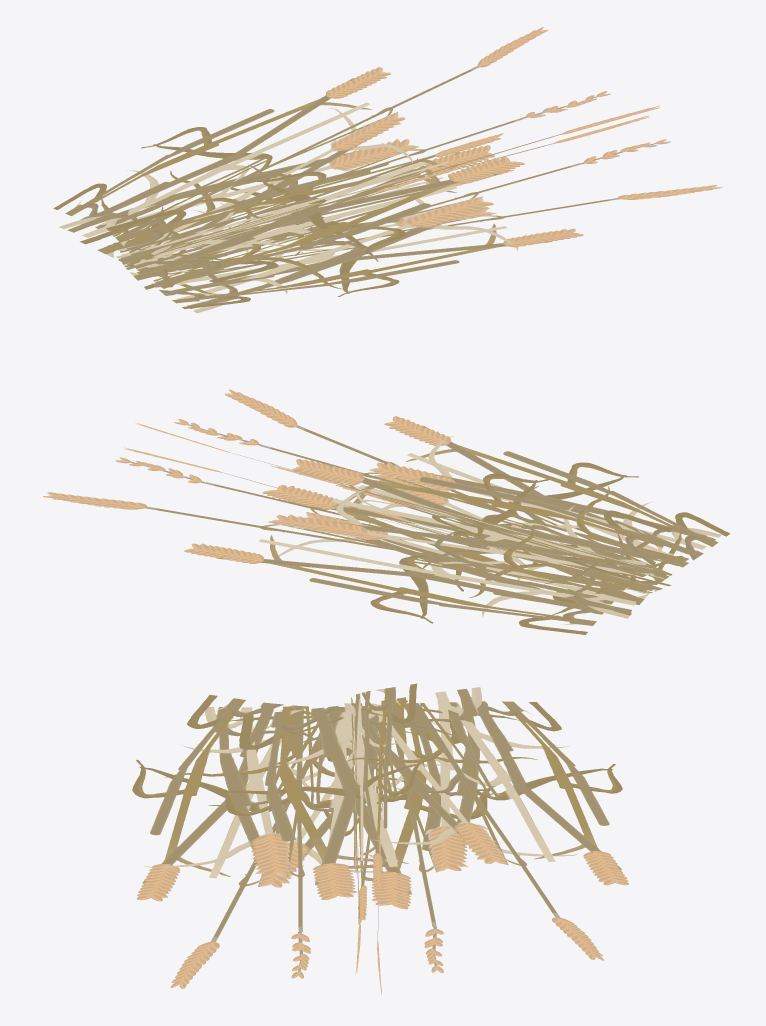
Rendered from PT_Wheat_01_cut_down.fbx.
The picture shows the model from 3 angles, top to bottom: view 1: azimuth 30°, elevation 25°; view 2: azimuth 150°, elevation 25°; view 3: azimuth 270°, elevation 25°; orthographic projection. The views are drawn at different scales.
Parts seen in each view (by area): view 1: PT_Wheat_01_cut_down_LOD0; view 2: PT_Wheat_01_cut_down_LOD0; view 3: PT_Wheat_01_cut_down_LOD0.
Part boxes in pixels (bbox=[...]): PT_Wheat_01_cut_down_LOD0: bbox=[53, 27, 722, 313]; PT_Wheat_01_cut_down_LOD0: bbox=[43, 389, 730, 634]; PT_Wheat_01_cut_down_LOD0: bbox=[132, 683, 628, 995].
Size of what is drawn, in the model's own units: 102 by 10.13 by 94.18.
